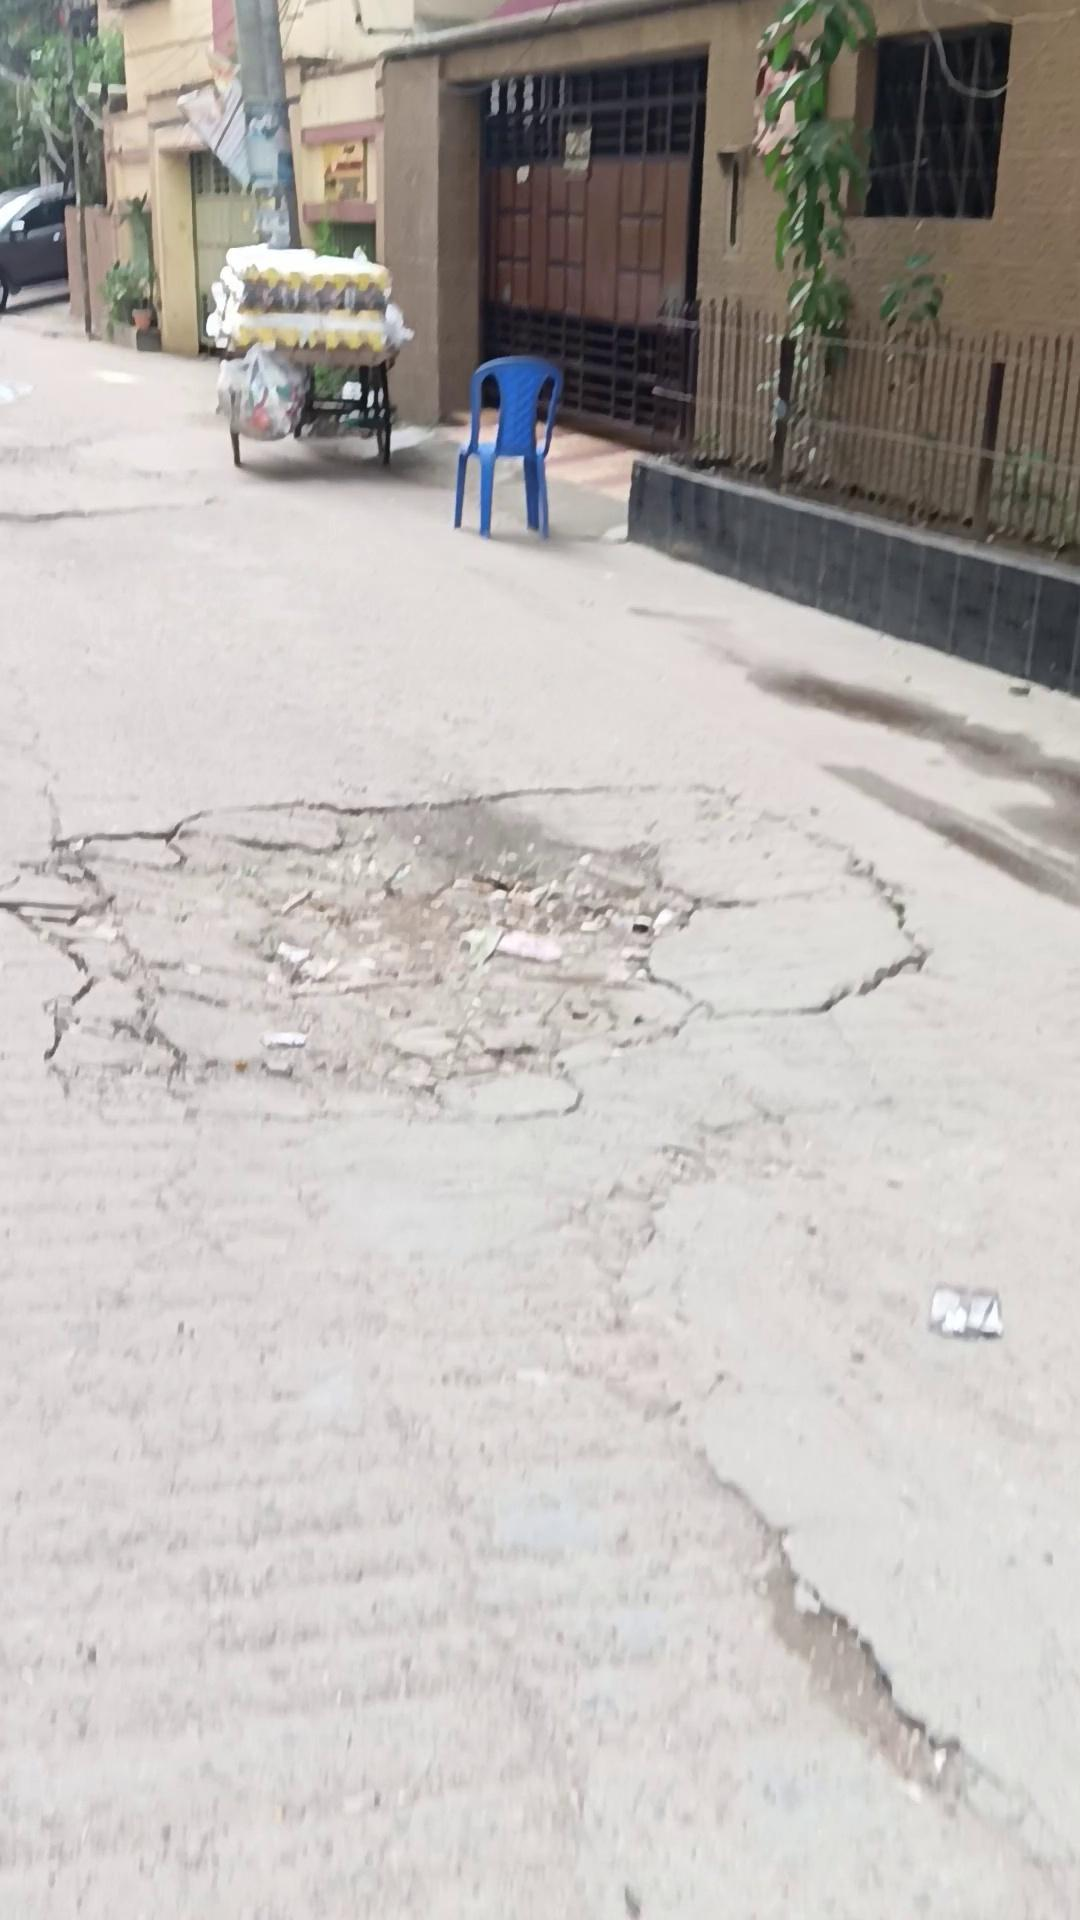Broken-road: (0, 336, 1080, 1920)
Car: (0, 179, 75, 313)
Crosswalk: (622, 450, 1077, 698)
Motorcycle: (440, 345, 571, 531)
Pothole: (204, 243, 409, 469)
